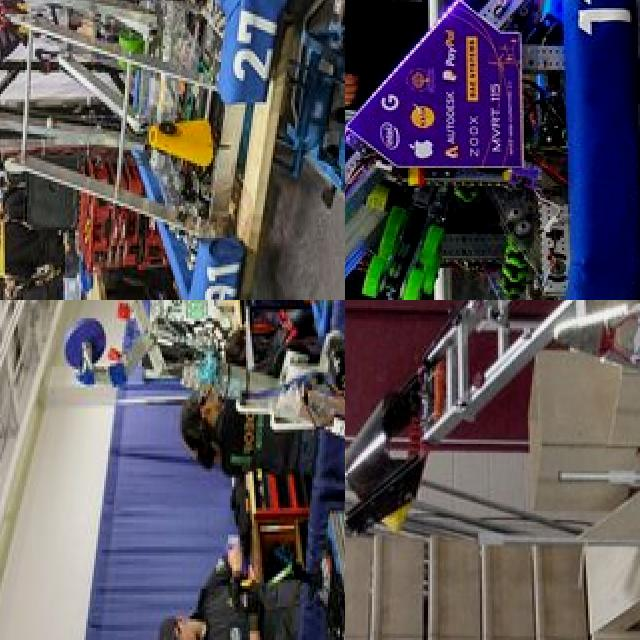FRC-Robots: (53, 300, 345, 640), (345, 0, 640, 300), (0, 0, 293, 300), (345, 300, 640, 580)
